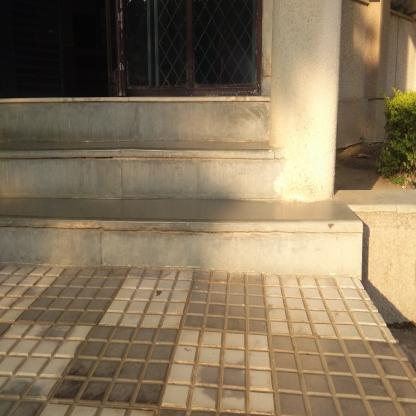stairs: (25, 91, 251, 288)
